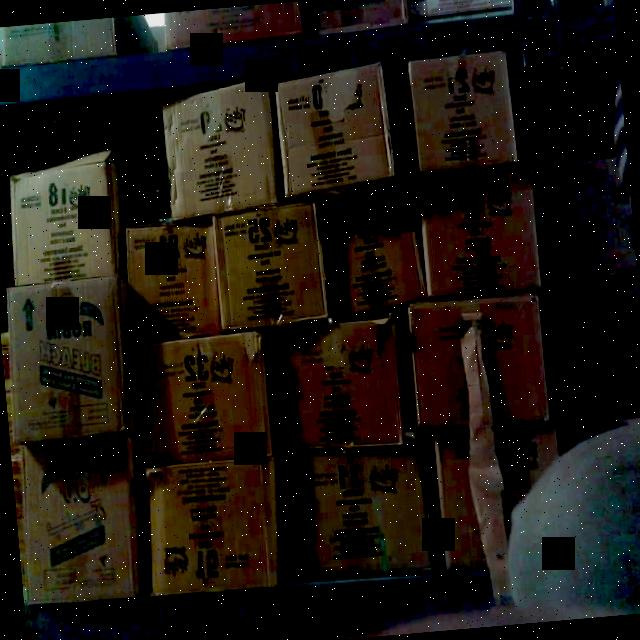box: (278, 443, 431, 585), (0, 279, 130, 444), (12, 442, 141, 608), (432, 425, 562, 574), (407, 295, 546, 434), (269, 319, 402, 452), (140, 462, 275, 592), (0, 151, 123, 290), (133, 337, 268, 463), (162, 77, 278, 219), (406, 38, 519, 181), (419, 174, 546, 299), (272, 62, 388, 198), (216, 199, 323, 330), (321, 192, 415, 312), (123, 222, 220, 331)
